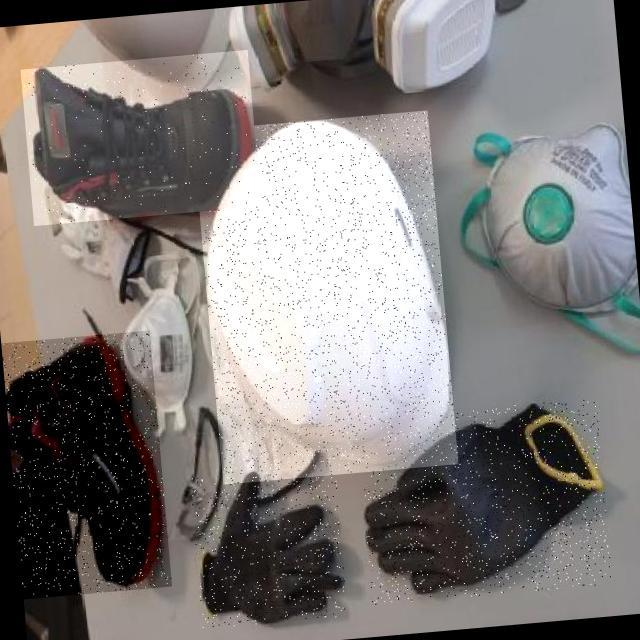Helmet: (192, 110, 458, 484)
Safety Boot: (1, 330, 172, 599), (20, 50, 261, 226)
